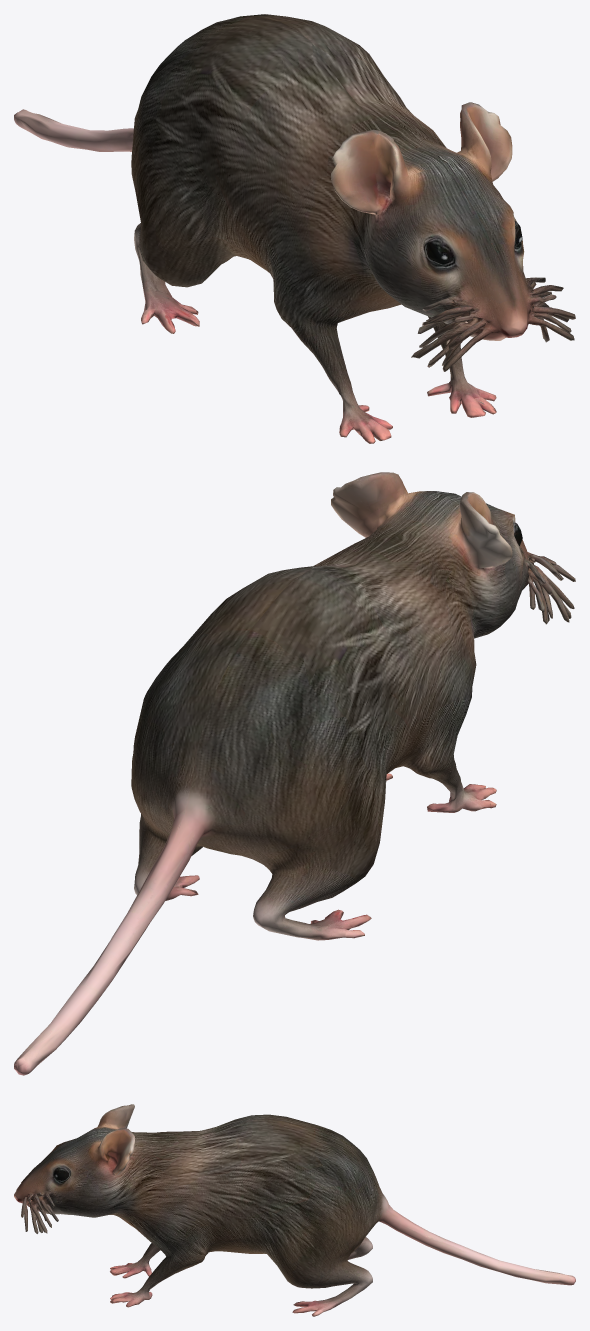
Rendered from Meshy_AI_A_dirty_rat_that_woul_0829110139_texture.glb.
3 renders of one model, top to bottom at view 1: azimuth 30°, elevation 25°; view 2: azimuth 150°, elevation 25°; view 3: azimuth 270°, elevation 25°, orthographic. The views are drawn at different scales.
Parts seen in each view (by area): view 1: Mesh_0; view 2: Mesh_0; view 3: Mesh_0.
Boxes of the visible parts, x1,y1,x2,y2 form: Mesh_0: (14, 14, 575, 443); Mesh_0: (14, 472, 575, 1075); Mesh_0: (14, 1104, 575, 1316).
Size of the model in its own units: 0.039 by 0.05 by 0.1494.
Materials: 1 (1 with a texture image).
